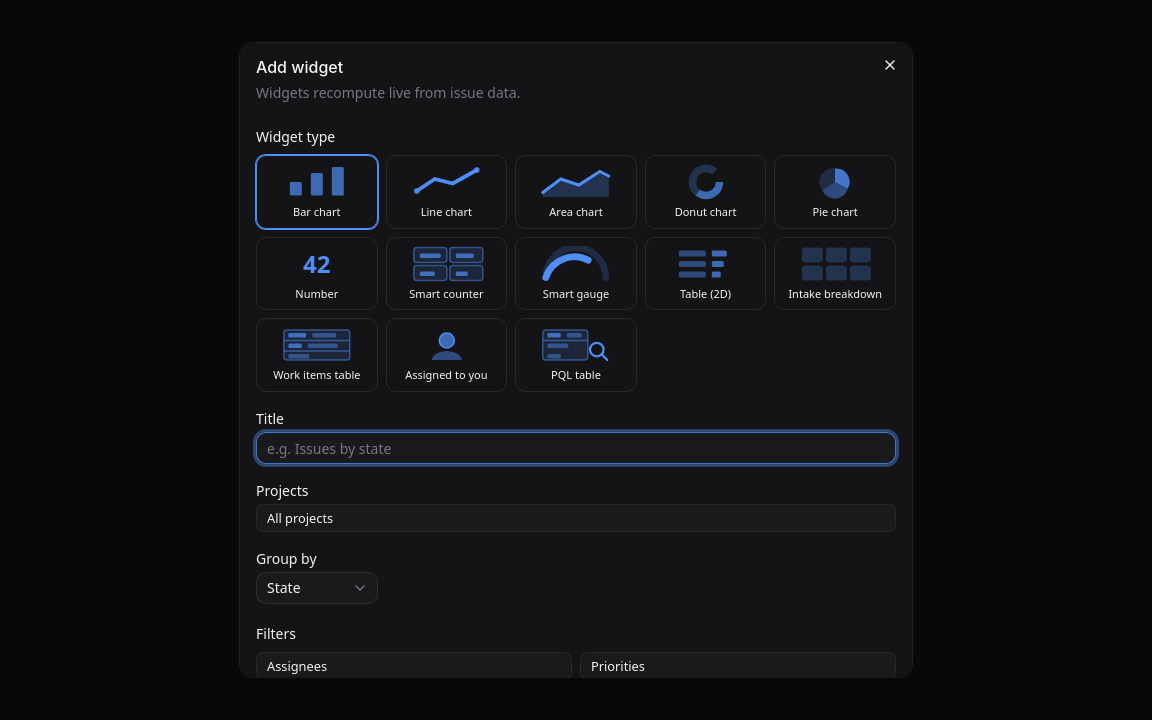
WidgetDialog PQL panel all-projects scope (C102T1) › enables save at 0 projects with a non-blank query
This screenshot has width=1152, height=720.
Click the radio button labelled "PQL table" at [576, 355], box [515,319,637,392]
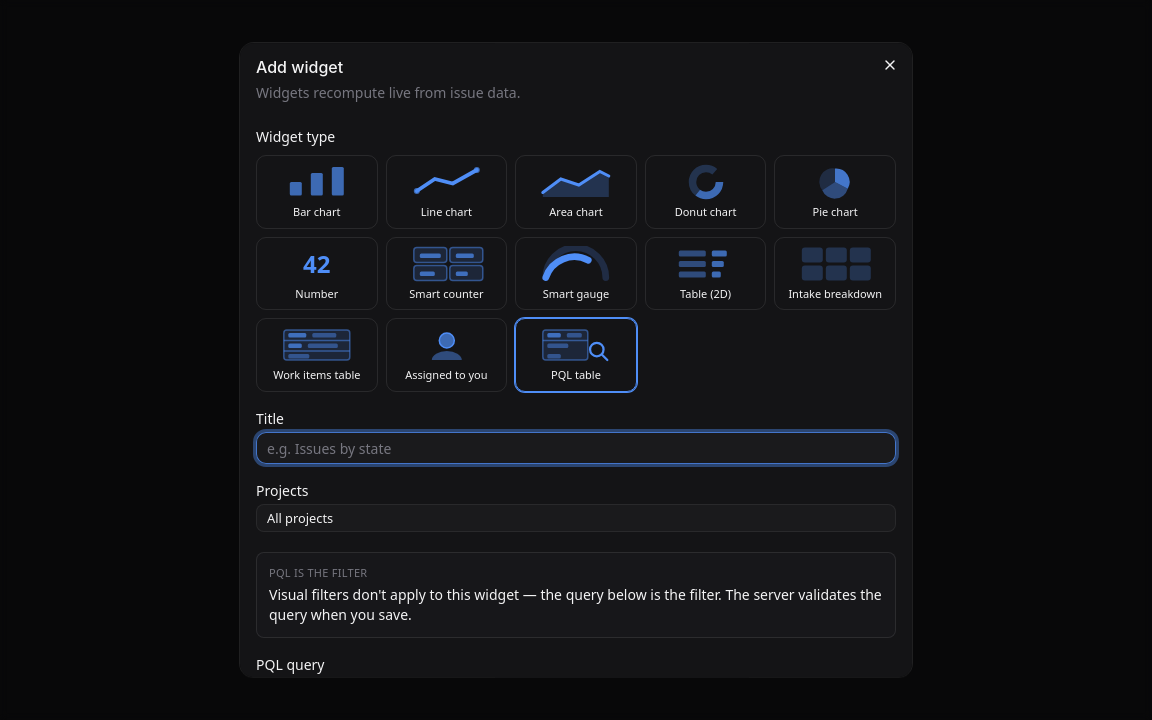
Type "Open bugs — all projects" into the field labelled "Title" at [576, 448], box [256,432,896,464]
(page scrolled)
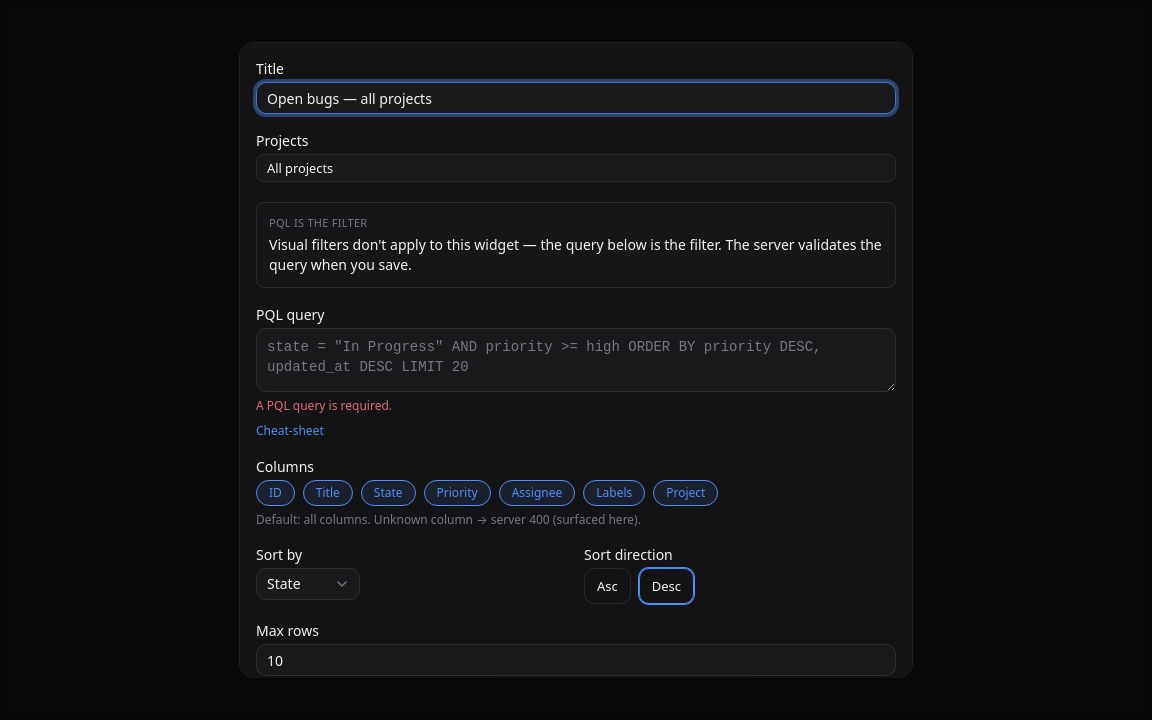
Replace the text in the text box labelled "PQL query" with "state = \"In Progress\"" at [576, 360], box [256,328,896,392]
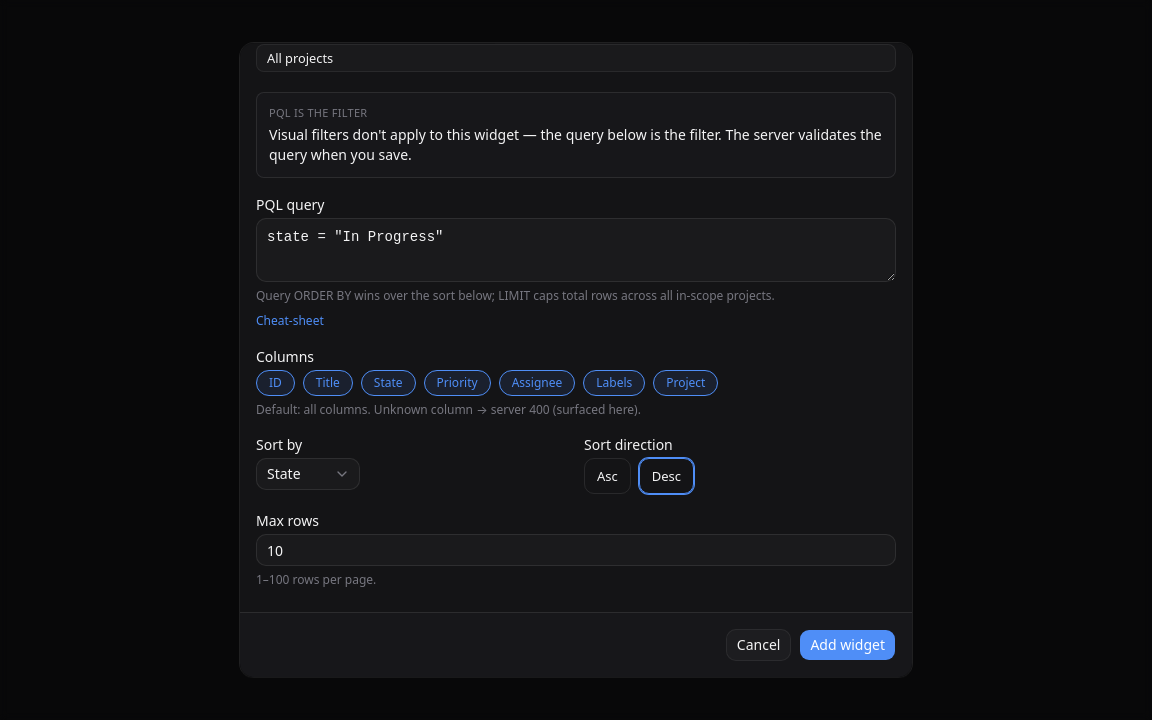
Expected: the button "Add widget" is enabled, [799,630,896,662]
